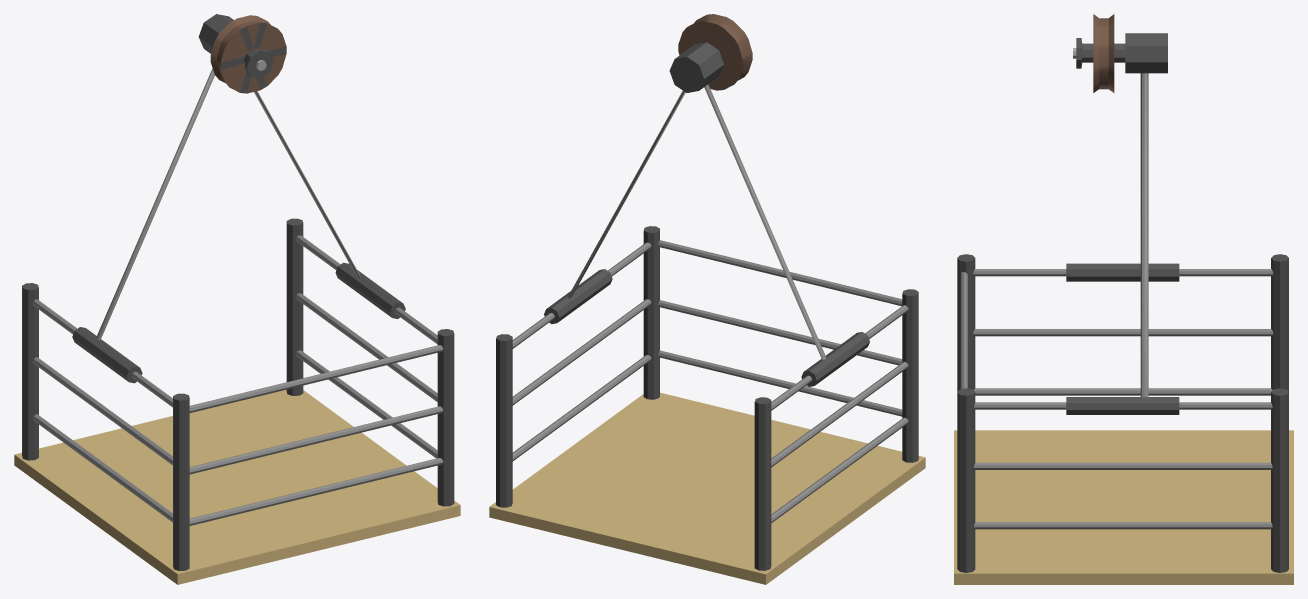
Rendered from snow_skilift.fbx.
3 renders of one model, left to right at view 1: azimuth 30°, elevation 25°; view 2: azimuth 150°, elevation 25°; view 3: azimuth 270°, elevation 25°, orthographic. The views are drawn at different scales.
Visible parts, largest first — view 1: pCube1, pCylinder20, pCylinder1, pCylinder3, pCylinder5, pCylinder4, pCylinder17, pCylinder13, pCylinder14, pCylinder12, pCylinder16, pCylinder9 (+8 smaller); view 2: pCube1, pCylinder5, pCylinder20, pCylinder4, pCylinder3, pCylinder1, pCylinder17, pCylinder18, pCylinder12, pCylinder14, pCylinder13, pCylinder7 (+7 smaller); view 3: pCube1, pCylinder1, pCylinder4, pCylinder17, pCylinder5, pCylinder8, pCylinder7, pCylinder11, pCylinder9, pCylinder15, pCylinder16, pCylinder18 (+6 smaller).
Boxes of the visible parts, bbox=[...] form: pCube1: bbox=[14, 389, 460, 584]; pCylinder20: bbox=[210, 15, 286, 93]; pCylinder1: bbox=[437, 329, 454, 506]; pCylinder3: bbox=[173, 393, 189, 570]; pCylinder5: bbox=[22, 283, 38, 460]; pCylinder4: bbox=[286, 218, 303, 395]; pCylinder17: bbox=[96, 68, 360, 340]; pCylinder13: bbox=[189, 406, 443, 474]; pCylinder14: bbox=[189, 458, 443, 525]; pCylinder12: bbox=[189, 345, 443, 412]; pCylinder16: bbox=[72, 327, 142, 383]; pCylinder9: bbox=[32, 414, 172, 522]; pCube1: bbox=[489, 392, 925, 584]; pCylinder5: bbox=[754, 397, 771, 570]; pCylinder20: bbox=[678, 14, 752, 90]; pCylinder4: bbox=[496, 334, 512, 507]; pCylinder3: bbox=[902, 289, 918, 462]; pCylinder1: bbox=[643, 226, 659, 399]; pCylinder17: bbox=[567, 84, 826, 360]; pCylinder18: bbox=[669, 42, 724, 92]; pCylinder12: bbox=[658, 240, 902, 306]; pCylinder14: bbox=[658, 350, 902, 416]; pCylinder13: bbox=[658, 300, 902, 365]; pCylinder7: bbox=[512, 299, 651, 405]; pCube1: bbox=[954, 430, 1293, 584]; pCylinder1: bbox=[957, 388, 975, 572]; pCylinder4: bbox=[1271, 388, 1288, 572]; pCylinder17: bbox=[1140, 73, 1148, 397]; pCylinder5: bbox=[1271, 254, 1288, 391]; pCylinder8: bbox=[974, 522, 1272, 529]; pCylinder7: bbox=[974, 462, 1272, 469]; pCylinder11: bbox=[973, 329, 1273, 336]; pCylinder9: bbox=[974, 388, 1272, 395]; pCylinder15: bbox=[1066, 397, 1179, 414]; pCylinder16: bbox=[1066, 263, 1179, 281]; pCylinder18: bbox=[1125, 33, 1167, 73].
Bounding box in the file's own units: 3.18 × 5.13 × 3.18.
